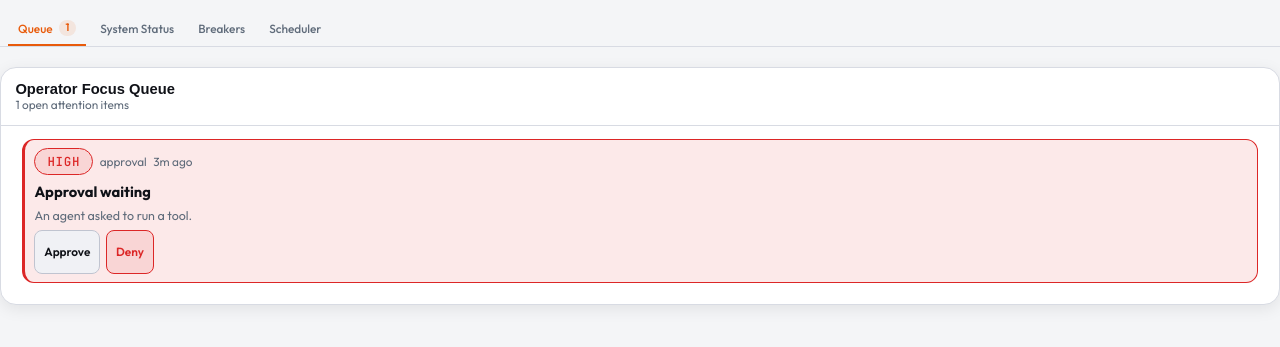
Test: FocusPage queue parity › keeps action failures on the item and clears them on retry
The width and height of the screenshot is (1280, 347).
Step 1. Click the button "Approve" → (67, 252), box [34, 230, 100, 274]
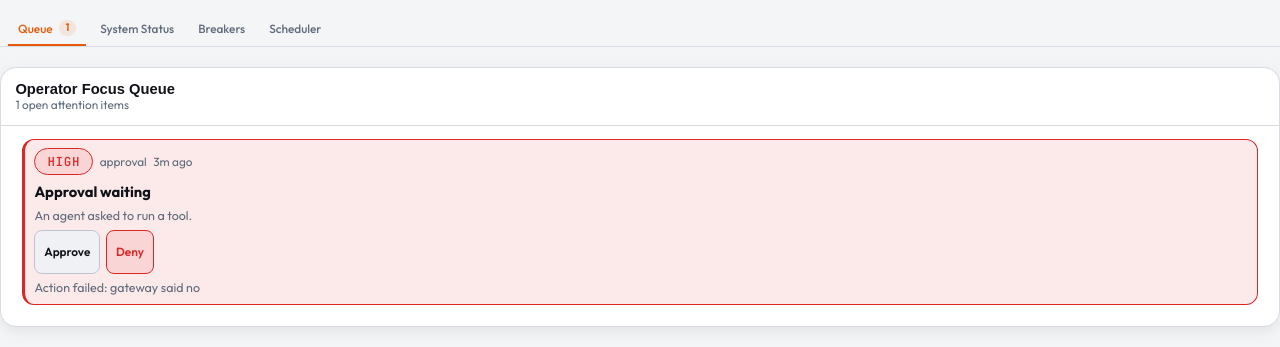
Now the message "Action failed: gateway said no" is shown, box [34, 280, 200, 295]
Step 2. Click the button "Approve" → (67, 252), box [34, 230, 100, 274]
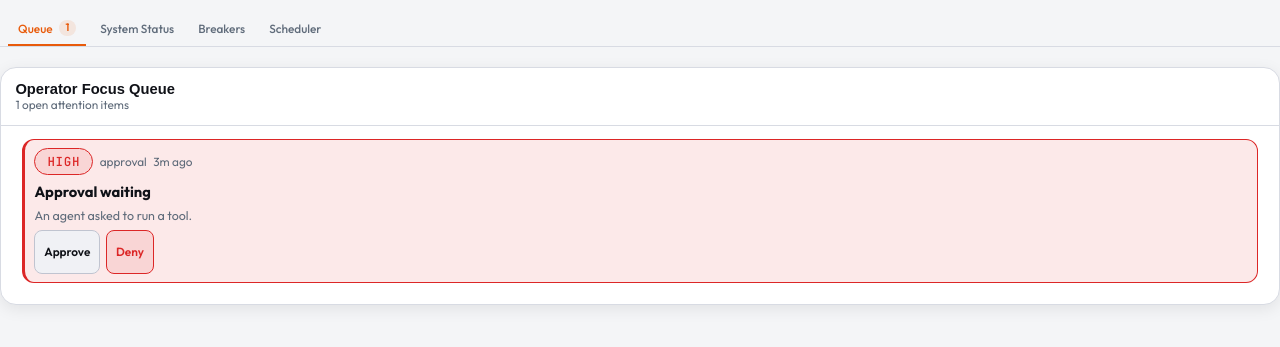
Now the message "Action failed: gateway said no" is gone
